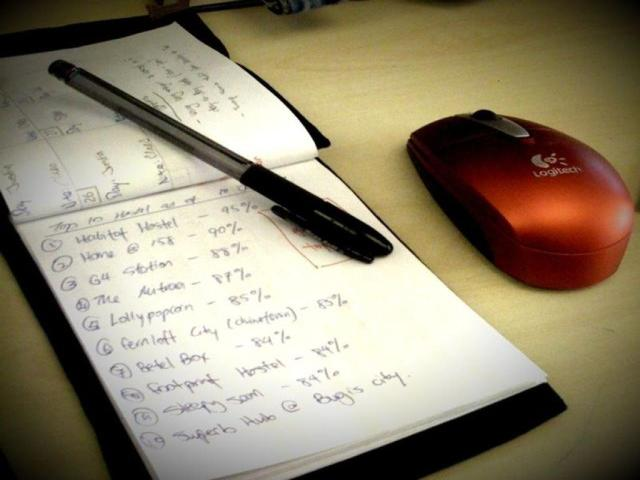PEN: (48, 55, 396, 286)
